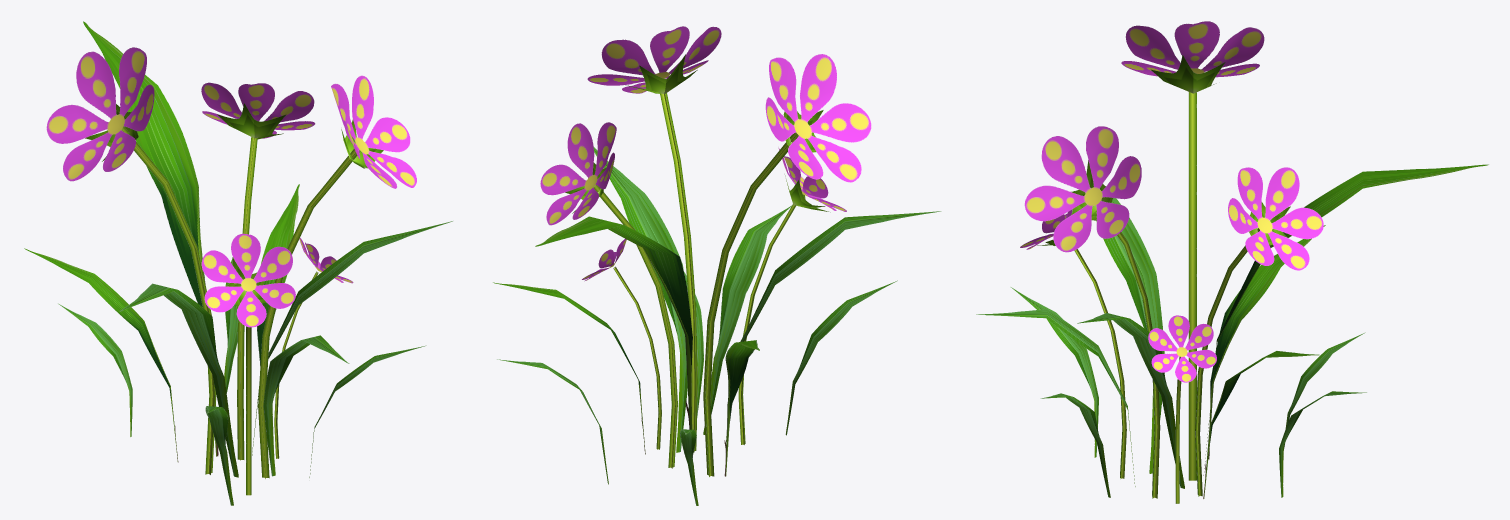
The model's file is Flower_11.FBX.
The picture shows the model from 3 angles, left to right: view 1: azimuth 30°, elevation 25°; view 2: azimuth 150°, elevation 25°; view 3: azimuth 270°, elevation 25°; orthographic projection. The views are drawn at different scales.
Visible parts, largest first — view 1: Flower_11; view 2: Flower_11; view 3: Flower_11.
Part boxes in pixels (box(x1,y1,x2,y2)): Flower_11: box(24, 21, 452, 505); Flower_11: box(493, 26, 941, 505); Flower_11: box(976, 21, 1488, 503).
Size of the model in its own units: 45.75 by 52.53 by 56.98.
